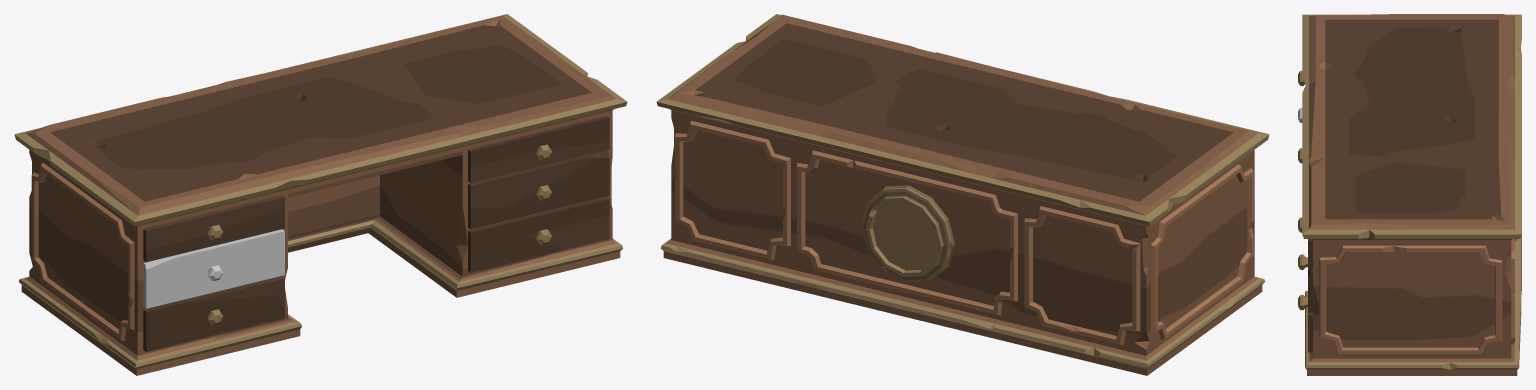
The model's file is SM_Prop_Desk_02.fbx.
3 renders of one model, left to right at view 1: azimuth 30°, elevation 25°; view 2: azimuth 150°, elevation 25°; view 3: azimuth 270°, elevation 25°, orthographic. The views are drawn at different scales.
Visible parts, largest first — view 1: SM_Prop_Desk_02; view 2: SM_Prop_Desk_02; view 3: SM_Prop_Desk_02.
Part boxes in pixels (<box>): SM_Prop_Desk_02: <box>14,14,627,375</box>; SM_Prop_Desk_02: <box>656,14,1269,375</box>; SM_Prop_Desk_02: <box>1298,14,1521,375</box>.
Bounding box in the file's own units: 247 × 77.75 × 106.
